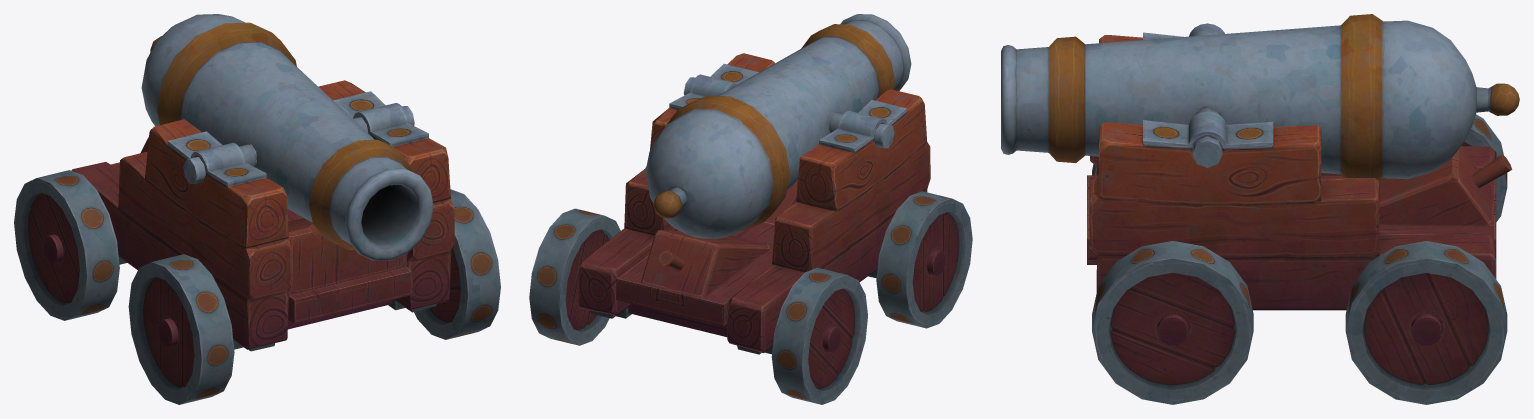
The model's file is CANNON.glb.
3 views of the same model, side by side, from view 1: azimuth 30°, elevation 25°; view 2: azimuth 150°, elevation 25°; view 3: azimuth 270°, elevation 25° (orthographic). The views are drawn at different scales.
Parts seen in each view (by area): view 1: cannon.base, cannon.wheel, cannon.wheel.003, cannon.wheel.001; view 2: cannon.base, cannon.wheel.003, cannon.wheel, cannon.wheel.002; view 3: cannon.base, cannon.wheel.002, cannon.wheel.001, cannon.wheel.
Boxes of the visible parts, x1=… form: cannon.base: x1=43, y1=14, x2=454, y2=351; cannon.wheel: x1=14, y1=170, x2=119, y2=320; cannon.wheel.003: x1=128, y1=254, x2=234, y2=404; cannon.wheel.001: x1=414, y1=189, x2=500, y2=339; cannon.base: x1=578, y1=14, x2=945, y2=354; cannon.wheel.003: x1=876, y1=191, x2=972, y2=328; cannon.wheel: x1=771, y1=267, x2=867, y2=404; cannon.wheel.002: x1=529, y1=208, x2=620, y2=345; cannon.base: x1=1001, y1=14, x2=1519, y2=345; cannon.wheel.002: x1=1345, y1=241, x2=1507, y2=404; cannon.wheel.001: x1=1092, y1=241, x2=1253, y2=404; cannon.wheel: x1=1461, y1=114, x2=1507, y2=221.
Size of the model in its own units: 118 by 103 by 161.
1 material, 1 textured.
